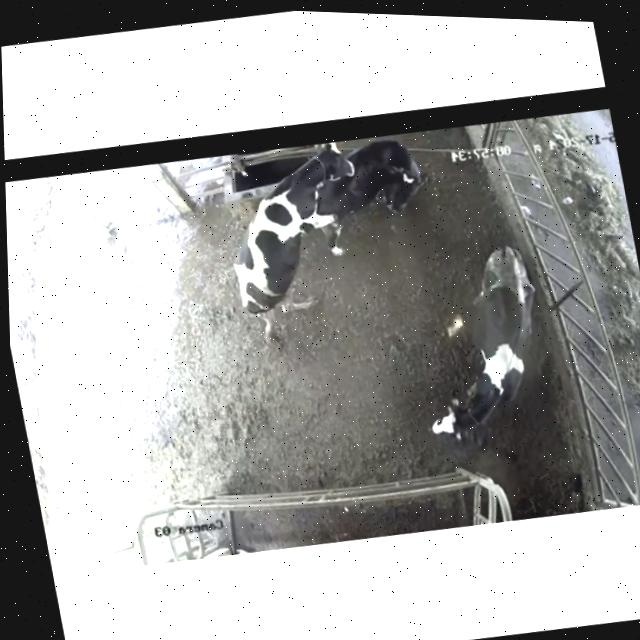ride: (208, 136, 388, 353)
stand: (394, 227, 573, 460), (306, 131, 448, 278)
